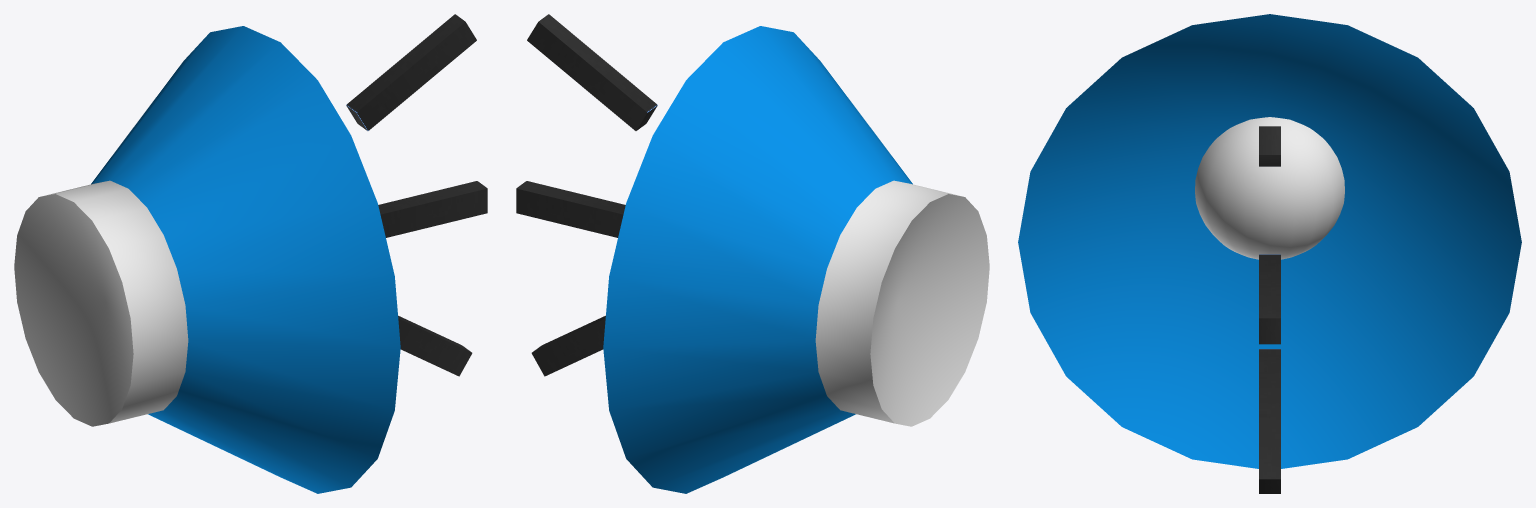
The model's file is audio.fbx.
3 renders of one model, left to right at view 1: azimuth 30°, elevation 25°; view 2: azimuth 150°, elevation 25°; view 3: azimuth 270°, elevation 25°, orthographic. The views are drawn at different scales.
Visible parts, largest first — view 1: Audio; view 2: Audio; view 3: Audio.
Boxes of the visible parts, x1,y1,x2,y2 form: Audio: (14, 14, 487, 493); Audio: (516, 14, 989, 493); Audio: (1018, 14, 1521, 493).
Size of the model in its own units: 3.95 by 4.02 by 4.02.
